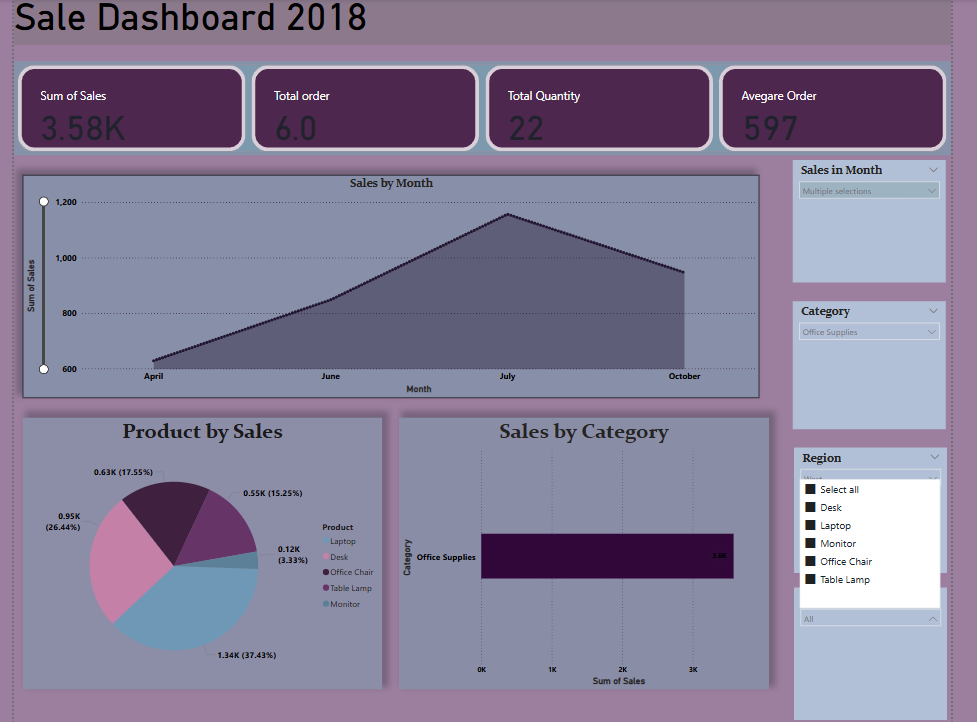

The dashboard page shown, as its layout file describes it:
{"tool":"powerbi","page":{"name":"Dashboard","canvas":[1500,1200],"ordinal":0},"visuals":[{"type":"shape","title":"Sale Dashboard 2018","box":[0,0,1500,80],"z":0},{"type":"cardVisual","fields":{"Data":["Sum(Orders__2.Sales)","Customers.Total order","Customers.total Quantity","Orders__2.Avegare Order"]},"box":[0,106,1500,150],"z":1000},{"type":"slicer","fields":{"Values":["Orders__2.Order Date.Variation.Date Hierarchy.Month","Orders__2.Sales"]},"box":[1246,264,245,196],"z":2000},{"type":"pieChart","title":"Product  by Sales","fields":{"Y":["Sum(Orders__2.Sales)"],"Category":["Orders__2.Product"]},"box":[13.3,675,575,435],"z":3000},{"type":"barChart","title":"Sales by Category","fields":{"Y":["Sum(Orders__2.Sales)"],"Category":["Orders__2.Category"]},"box":[615,675,591.7,435],"z":4000},{"type":"slicer","fields":{"Values":["Orders__2.Product"]},"box":[1247,947,245,212],"z":5000},{"type":"slicer","fields":{"Values":["Orders__2.Region"]},"box":[1247,723,245,201],"z":6000},{"type":"slicer","fields":{"Values":["Orders__2.Category"]},"box":[1246,489,245,205],"z":7000},{"type":"stackedAreaChart","title":" Sales by Month","fields":{"Category":["Orders__2.Order Date.Variation.Date Hierarchy.Month"],"Y":["Sum(Orders__2.Sales)"]},"box":[13.3,288.3,1178.3,356.7],"z":8000}]}

Visuals, with their boxes on the page's 1500x1200 design canvas (x1, y1, x2, y2). These are canvas units, not pixel positions in the 977x722 screenshot, which may show the page scaled, cropped or inside an application window:
"Sale Dashboard 2018" shape: l=0, t=0, r=1500, b=80
cardVisual - Sum(Orders__2.Sales) x Customers.Total order: l=0, t=106, r=1500, b=256
slicer - Orders__2.Order Date.Variation.Date Hierarchy.Month x Orders__2.Sales: l=1246, t=264, r=1491, b=460
"Product  by Sales" pieChart: l=13, t=675, r=588, b=1110
"Sales by Category" barChart: l=615, t=675, r=1207, b=1110
slicer - Orders__2.Product: l=1247, t=947, r=1492, b=1159
slicer - Orders__2.Region: l=1247, t=723, r=1492, b=924
slicer - Orders__2.Category: l=1246, t=489, r=1491, b=694
" Sales by Month" stackedAreaChart: l=13, t=288, r=1192, b=645
